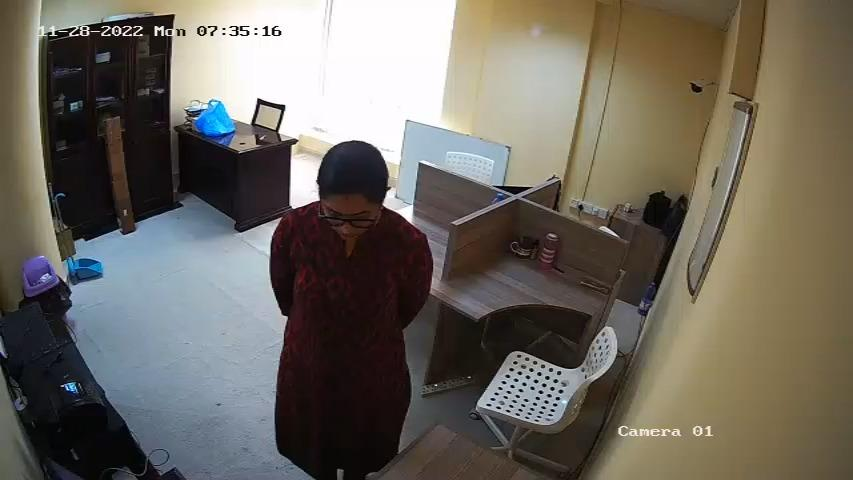no_apron: (284, 245, 401, 444)
